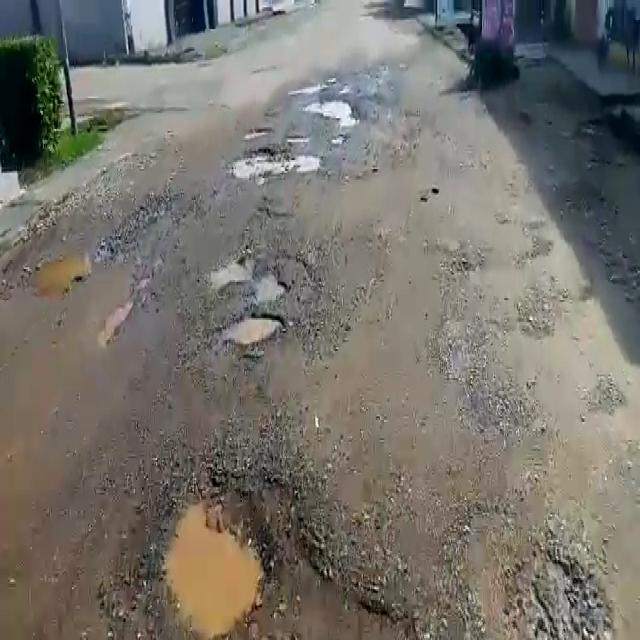Pothole: (154, 487, 276, 639), (214, 253, 288, 304), (217, 308, 287, 351), (226, 144, 314, 178), (27, 255, 92, 298), (305, 98, 360, 124), (243, 124, 273, 137)
